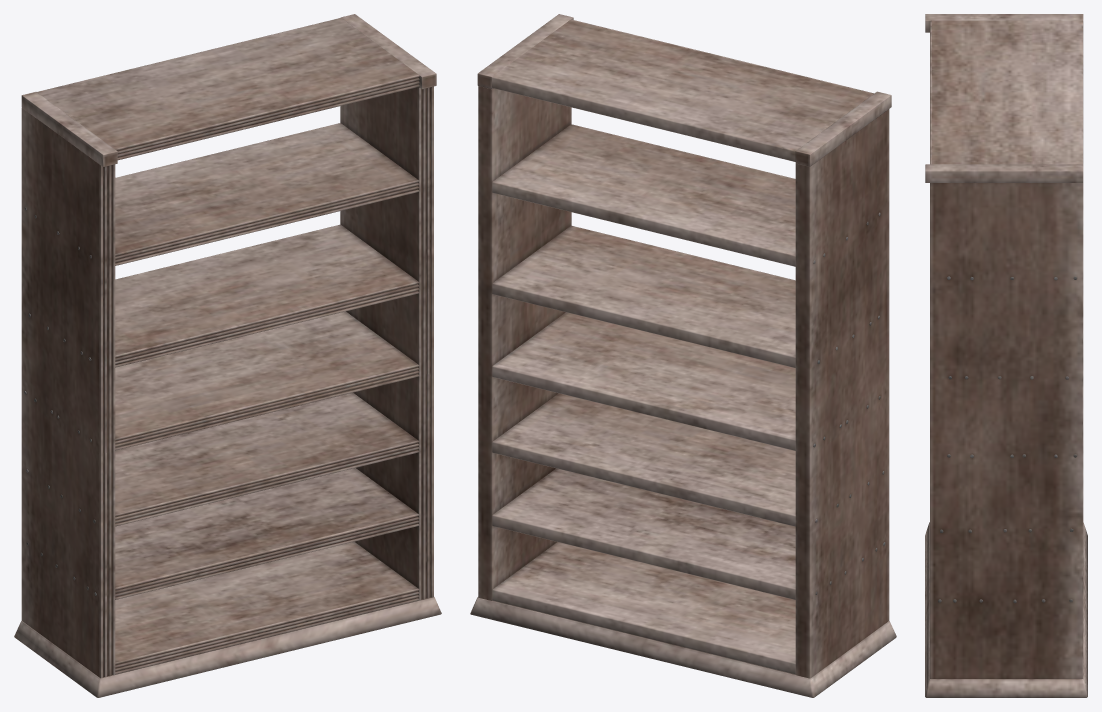
The model's file is detail.fbx.
The picture shows the model from 3 angles, left to right: view 1: azimuth 30°, elevation 25°; view 2: azimuth 150°, elevation 25°; view 3: azimuth 270°, elevation 25°; orthographic projection. The views are drawn at different scales.
Parts seen in each view (by area): view 1: wooden_bookshelf_worn; view 2: wooden_bookshelf_worn; view 3: wooden_bookshelf_worn.
Boxes of the visible parts, x1,y1,x2,y2 form: wooden_bookshelf_worn: [14, 14, 441, 697]; wooden_bookshelf_worn: [470, 14, 896, 697]; wooden_bookshelf_worn: [925, 14, 1087, 697].
Bounding box in the file's own units: 137 × 206 × 58.13.
